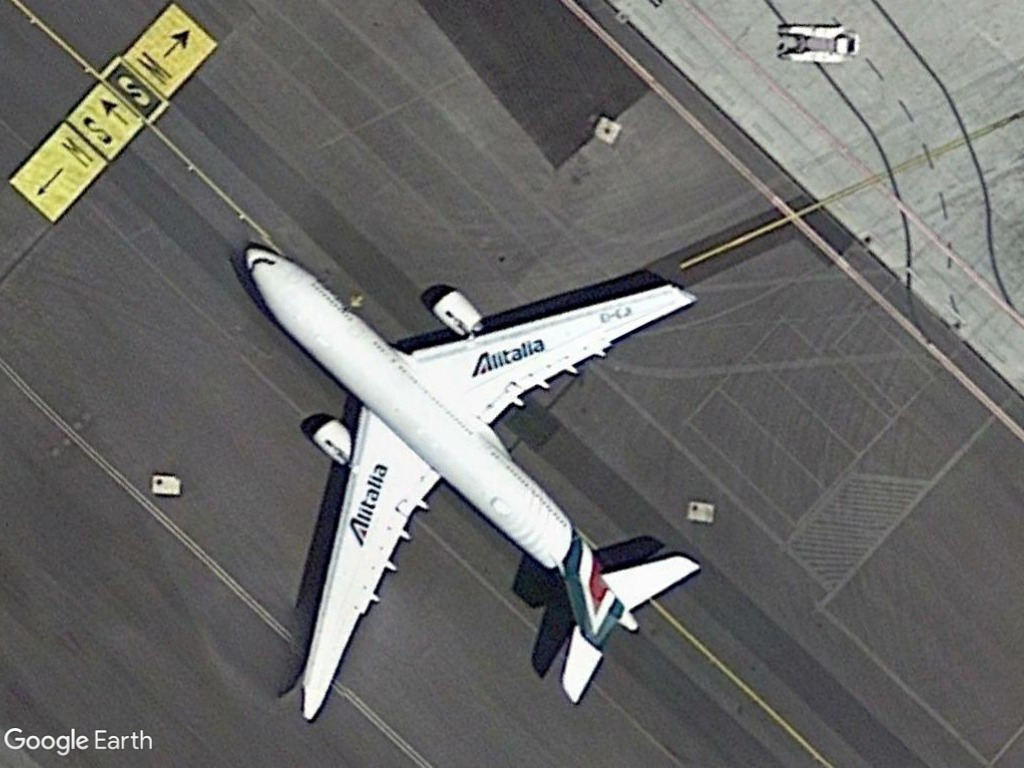airliner: (224, 228, 706, 726)
pushbacktruck: (775, 20, 864, 67)
